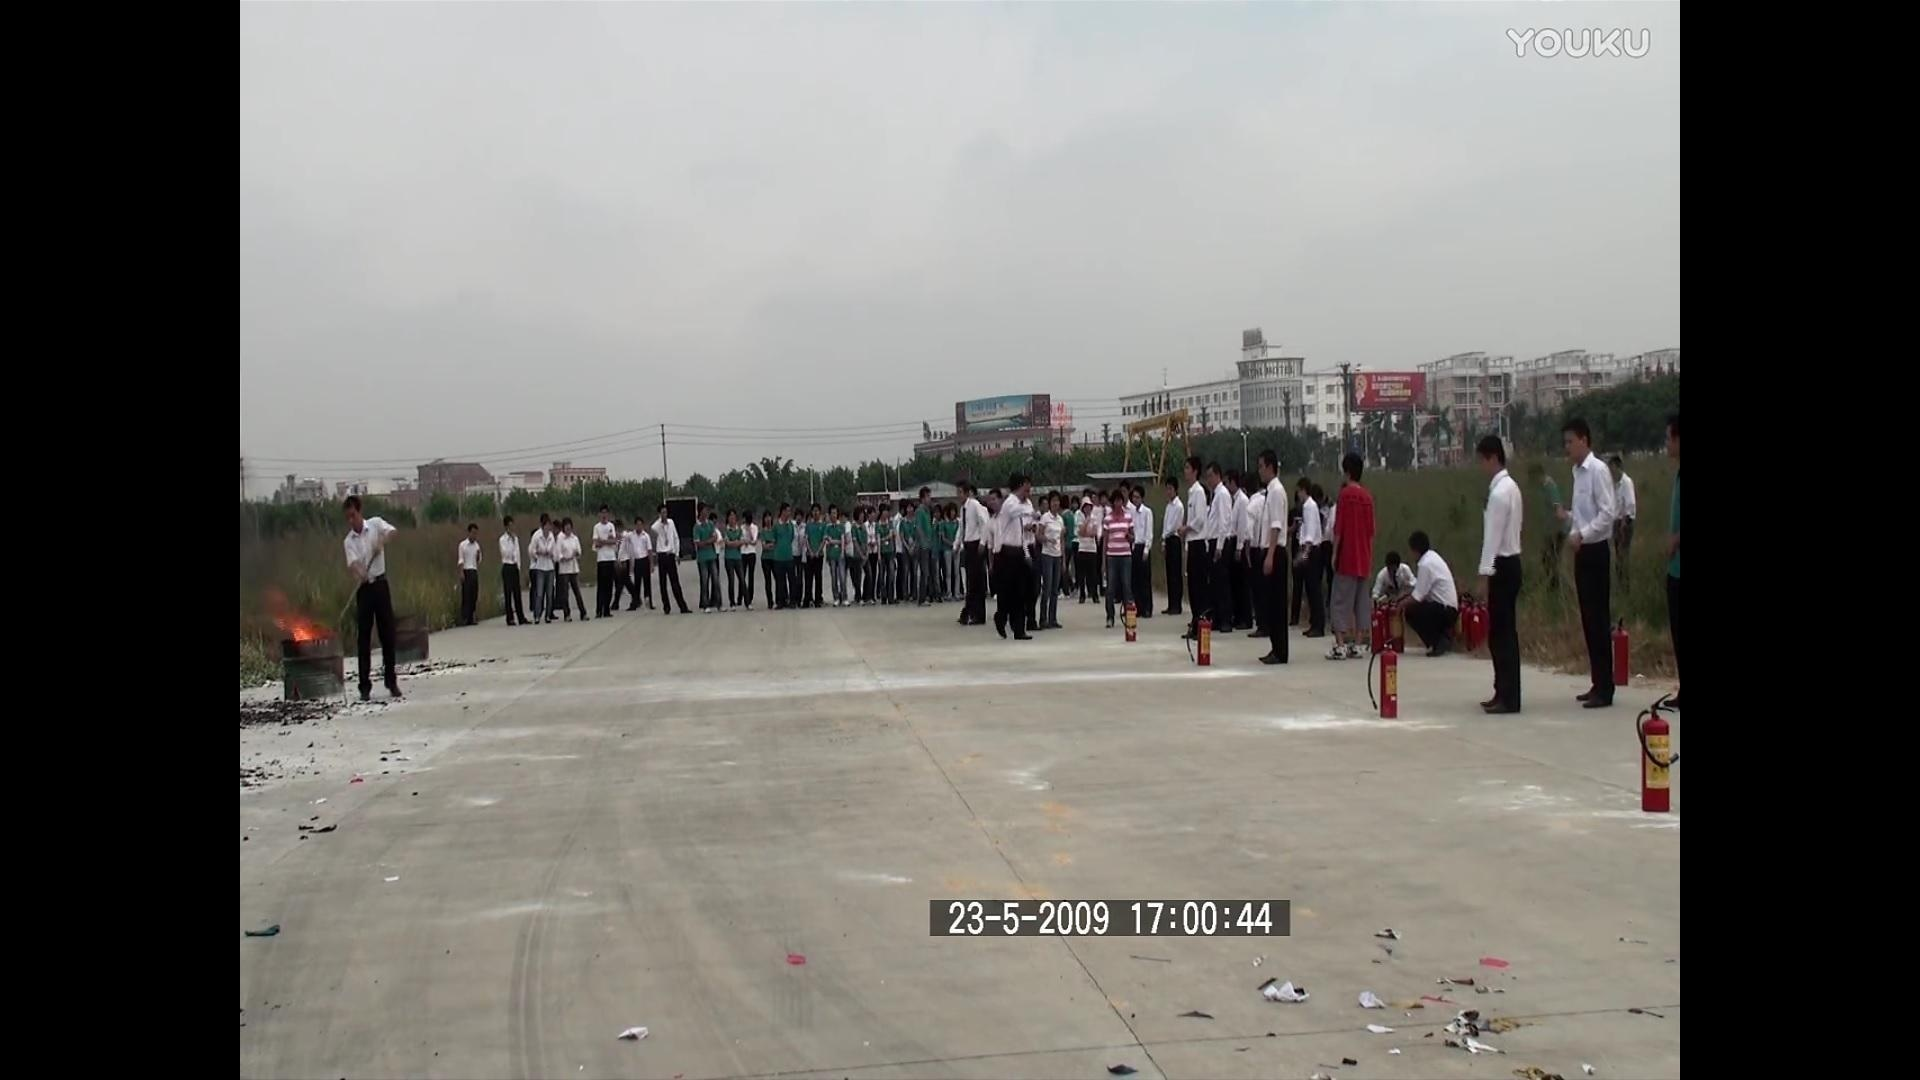fire: (284, 613, 323, 642)
